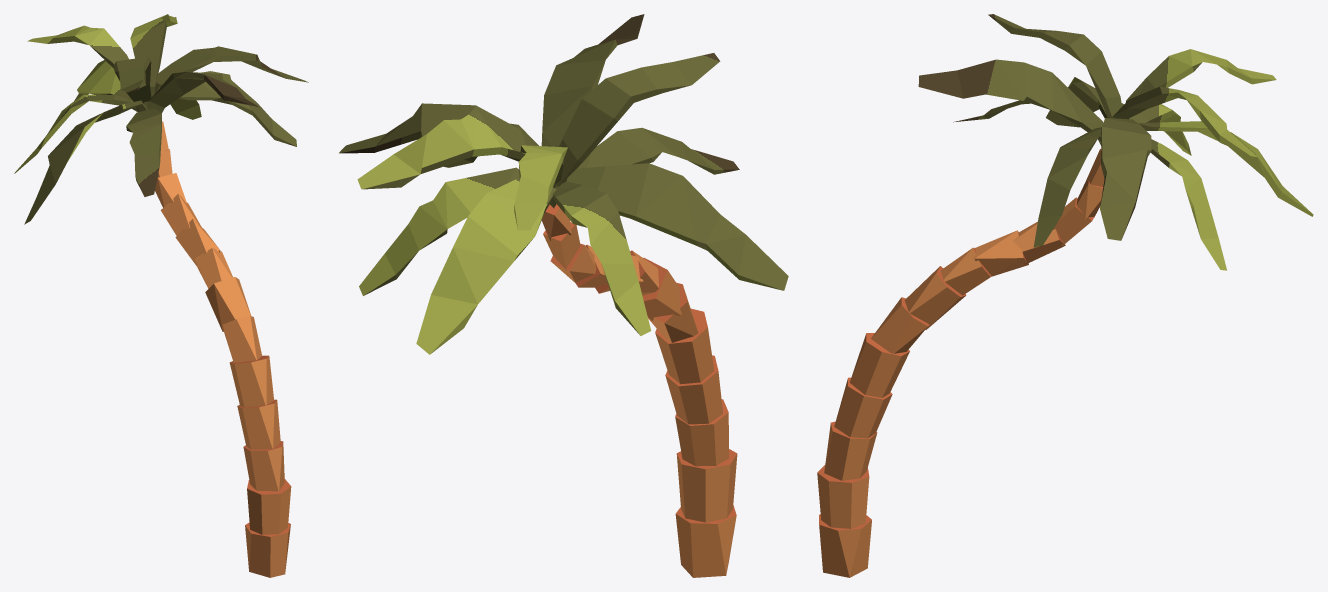
Rendered from Palm Tree 4 Low.fbx.
3 renders of one model, left to right at view 1: azimuth 30°, elevation 25°; view 2: azimuth 150°, elevation 25°; view 3: azimuth 270°, elevation 25°, orthographic. The views are drawn at different scales.
Visible parts, largest first — view 1: Tree-4; view 2: Tree-4; view 3: Tree-4.
Boxes of the visible parts, x1,y1,x2,y2 form: Tree-4: [14, 14, 308, 577]; Tree-4: [339, 14, 788, 577]; Tree-4: [817, 14, 1313, 577].
Size of the model in its own units: 332 by 464 by 405.
